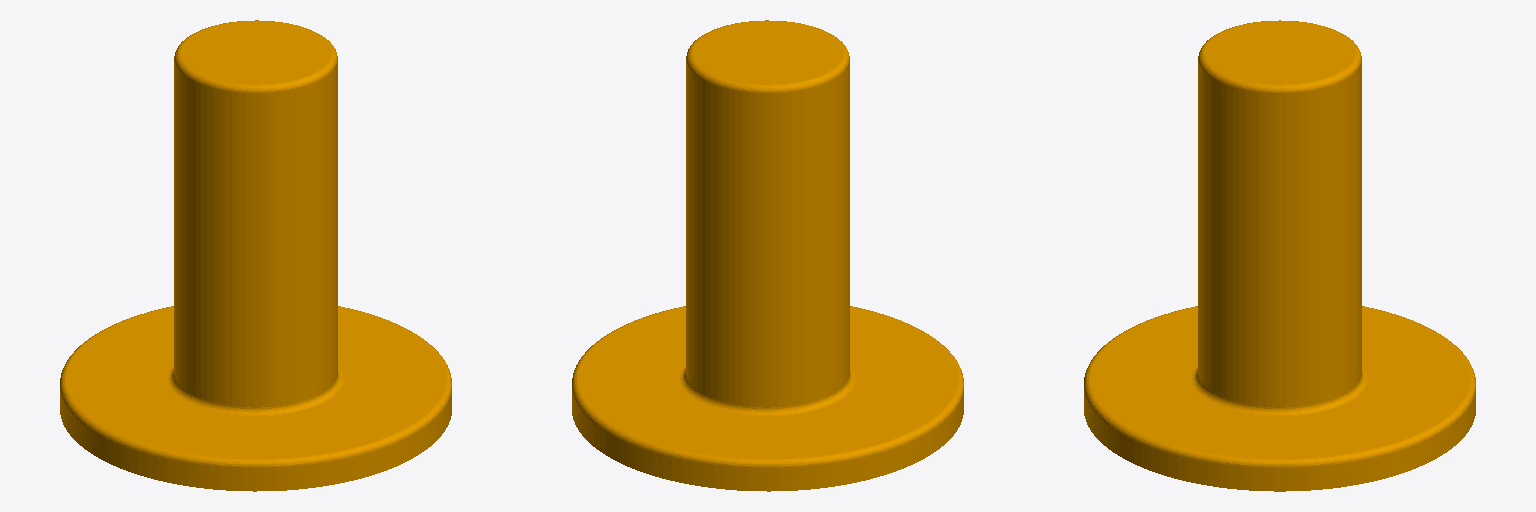
URDF robot description (benchmark_part_4):
<robot name="benchmark_part_4">
  <link name="base_link">
    <visual>
      <geometry>
        <mesh filename="benchmark_parts_stl/benchmark_part_4.stl" scale="0.001 0.001 0.001" />
      </geometry>
    <origin xyz="-0.2749999988642571 2.084385308389118e-15 -0.04435847654730254" rpy="0 0 0" /></visual>
    <collision>
      <geometry>
        <mesh filename="benchmark_parts_stl/benchmark_part_4_vhacd.obj" scale="0.01 0.01 0.01" />
      </geometry>
    <origin xyz="-0.2749999988642571 2.084385308389118e-15 -0.04435847654730254" rpy="0 0 0" /></collision>
    <inertial>
      <mass value="0.1" />
      <inertia ixx="0.001" ixy="0.0" ixz="0.0" iyy="0.001" iyz="0.0" izz="0.001" />
    </inertial>
  </link>
</robot>

--- Render facts (derived) ---
Views: 3 orthographic renders of the robot side by side, from view 1: azimuth 30°, elevation 25°; view 2: azimuth 150°, elevation 25°; view 3: azimuth 270°, elevation 25°.
Robot: benchmark_part_4 — 1 links, 0 joints (none); root link base_link; default pose: all joints at 0.
Links seen in each view (by area): view 1: base_link; view 2: base_link; view 3: base_link.
Boxes of the visible links, x1,y1,x2,y2 form: base_link: (60,20,451,491); base_link: (572,20,963,491); base_link: (1084,20,1475,491).
Size in the robot's own frame: 0.12 by 0.12 by 0.12 metres.
1 mesh visuals loaded from 1 distinct referenced files (1 binary STL).